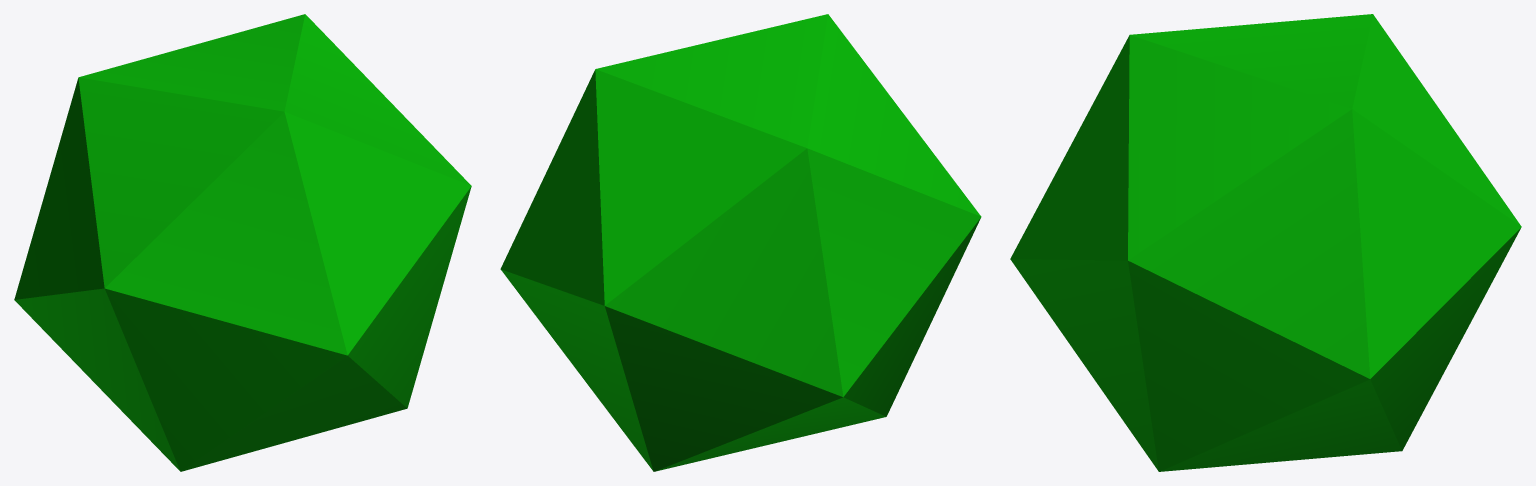
File: tree8.fbx
3 views of the same model, side by side, from view 1: azimuth 30°, elevation 25°; view 2: azimuth 150°, elevation 25°; view 3: azimuth 270°, elevation 25° (orthographic). The views are drawn at different scales.
Visible parts, largest first — view 1: bush.001; view 2: bush.001; view 3: bush.001.
Part boxes in pixels (<box>): bush.001: <box>14,14,471,471</box>; bush.001: <box>500,14,981,471</box>; bush.001: <box>1010,14,1521,471</box>.
Bounding box in the file's own units: 268 × 251 × 295.
